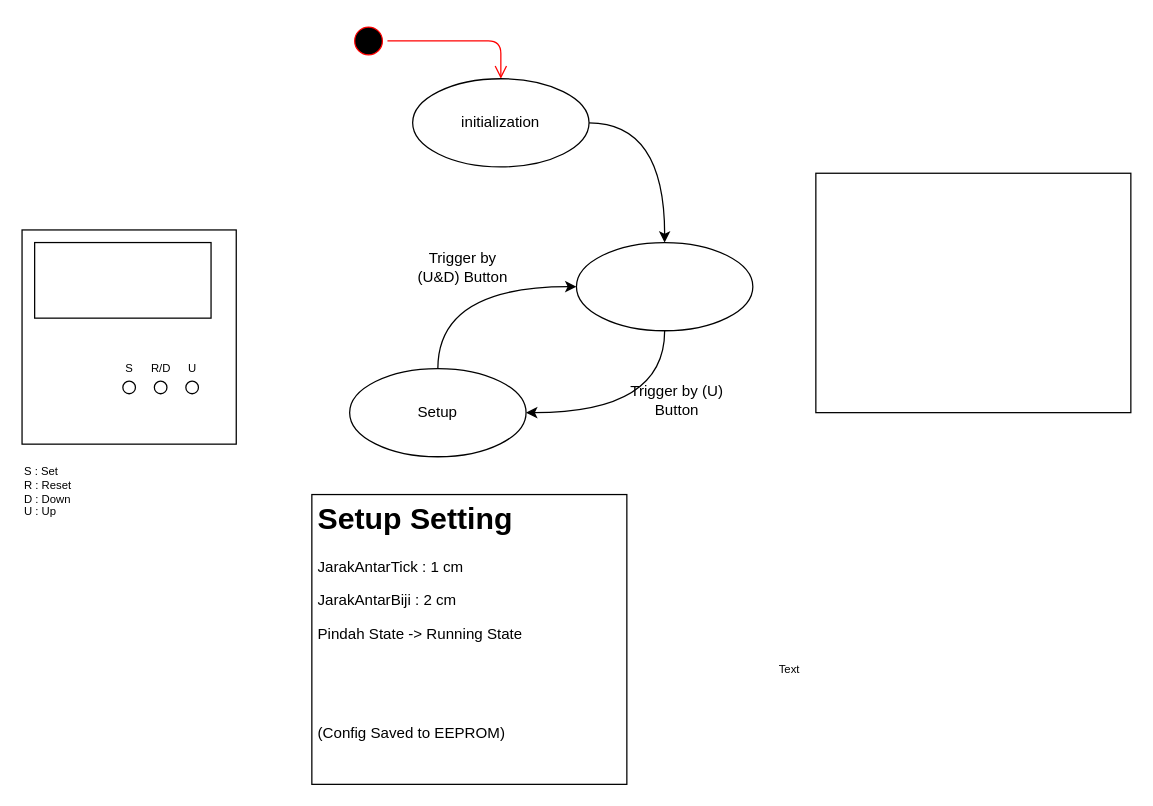
The diagram is 1153 pixels wide and 806 high, and some of its shapes have lost their labels. The centre of each missing label's shape, as x and y in pixels:
"Running ResetTick() JumlahDropBiji() PindahState()" goes at (x=973, y=292).
"Running Stat" goes at (x=664, y=286).
